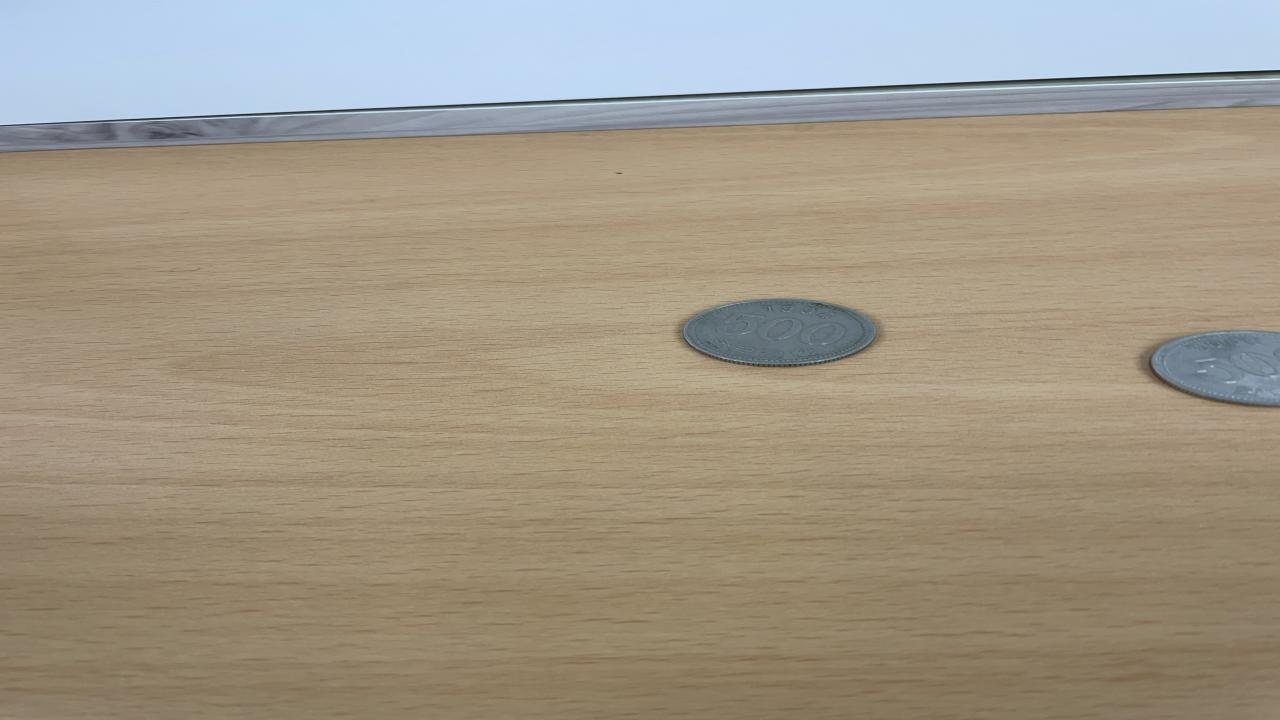coin: (677, 295, 885, 368), (1149, 330, 1278, 406)
